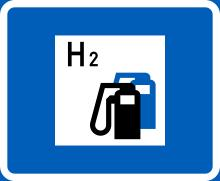Petrol Pump- Gas Station: (36, 15, 177, 166)
